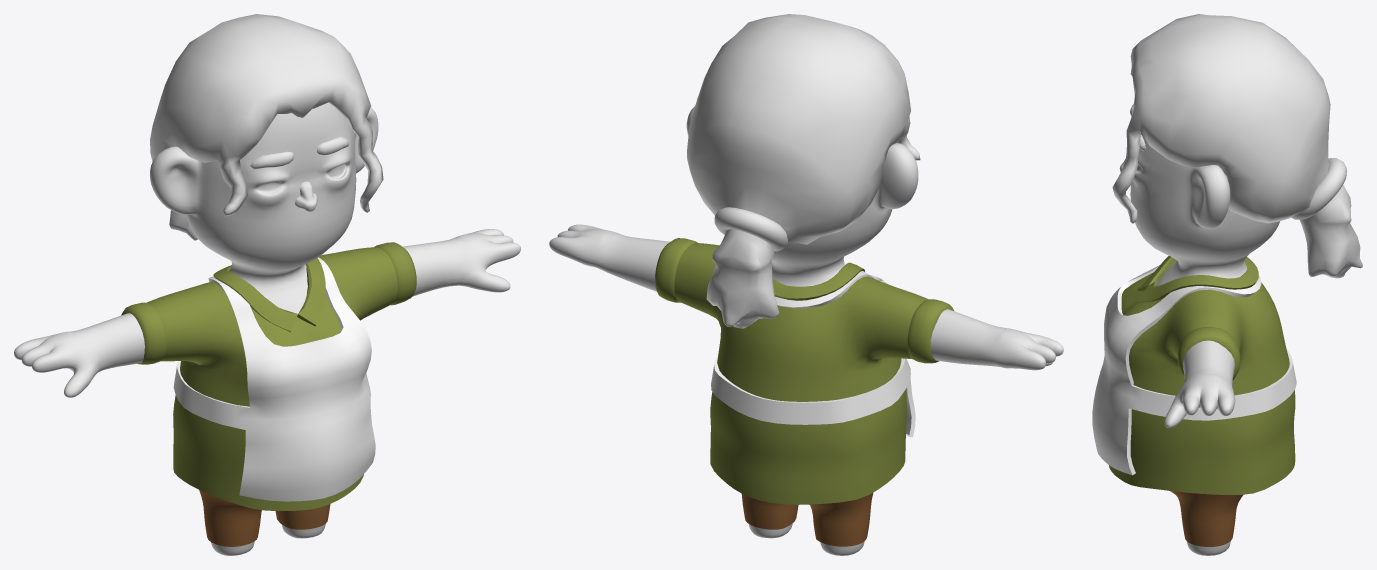
3 views of the same model, side by side, from view 1: azimuth 30°, elevation 25°; view 2: azimuth 150°, elevation 25°; view 3: azimuth 270°, elevation 25° (orthographic). The views are drawn at different scales.
Visible parts, largest first — view 1: F1_Clothes_low, MF_Body_low, F1_Hair_low; view 2: F1_Clothes_low, F1_Hair_low, MF_Body_low; view 3: F1_Clothes_low, F1_Hair_low, MF_Body_low.
Boxes of the visible parts, x1=… form: F1_Clothes_low: x1=121, y1=242, x2=416, y2=546; MF_Body_low: x1=14, y1=102, x2=520, y2=555; F1_Hair_low: x1=150, y1=14, x2=383, y2=240; F1_Clothes_low: x1=655, y1=238, x2=953, y2=546; F1_Hair_low: x1=687, y1=14, x2=920, y2=328; MF_Body_low: x1=549, y1=106, x2=1063, y2=555; F1_Clothes_low: x1=1092, y1=256, x2=1296, y2=546; F1_Hair_low: x1=1112, y1=14, x2=1362, y2=278; MF_Body_low: x1=1130, y1=133, x2=1279, y2=555.
Size of the model in its own units: 126 by 126 by 60.84.
